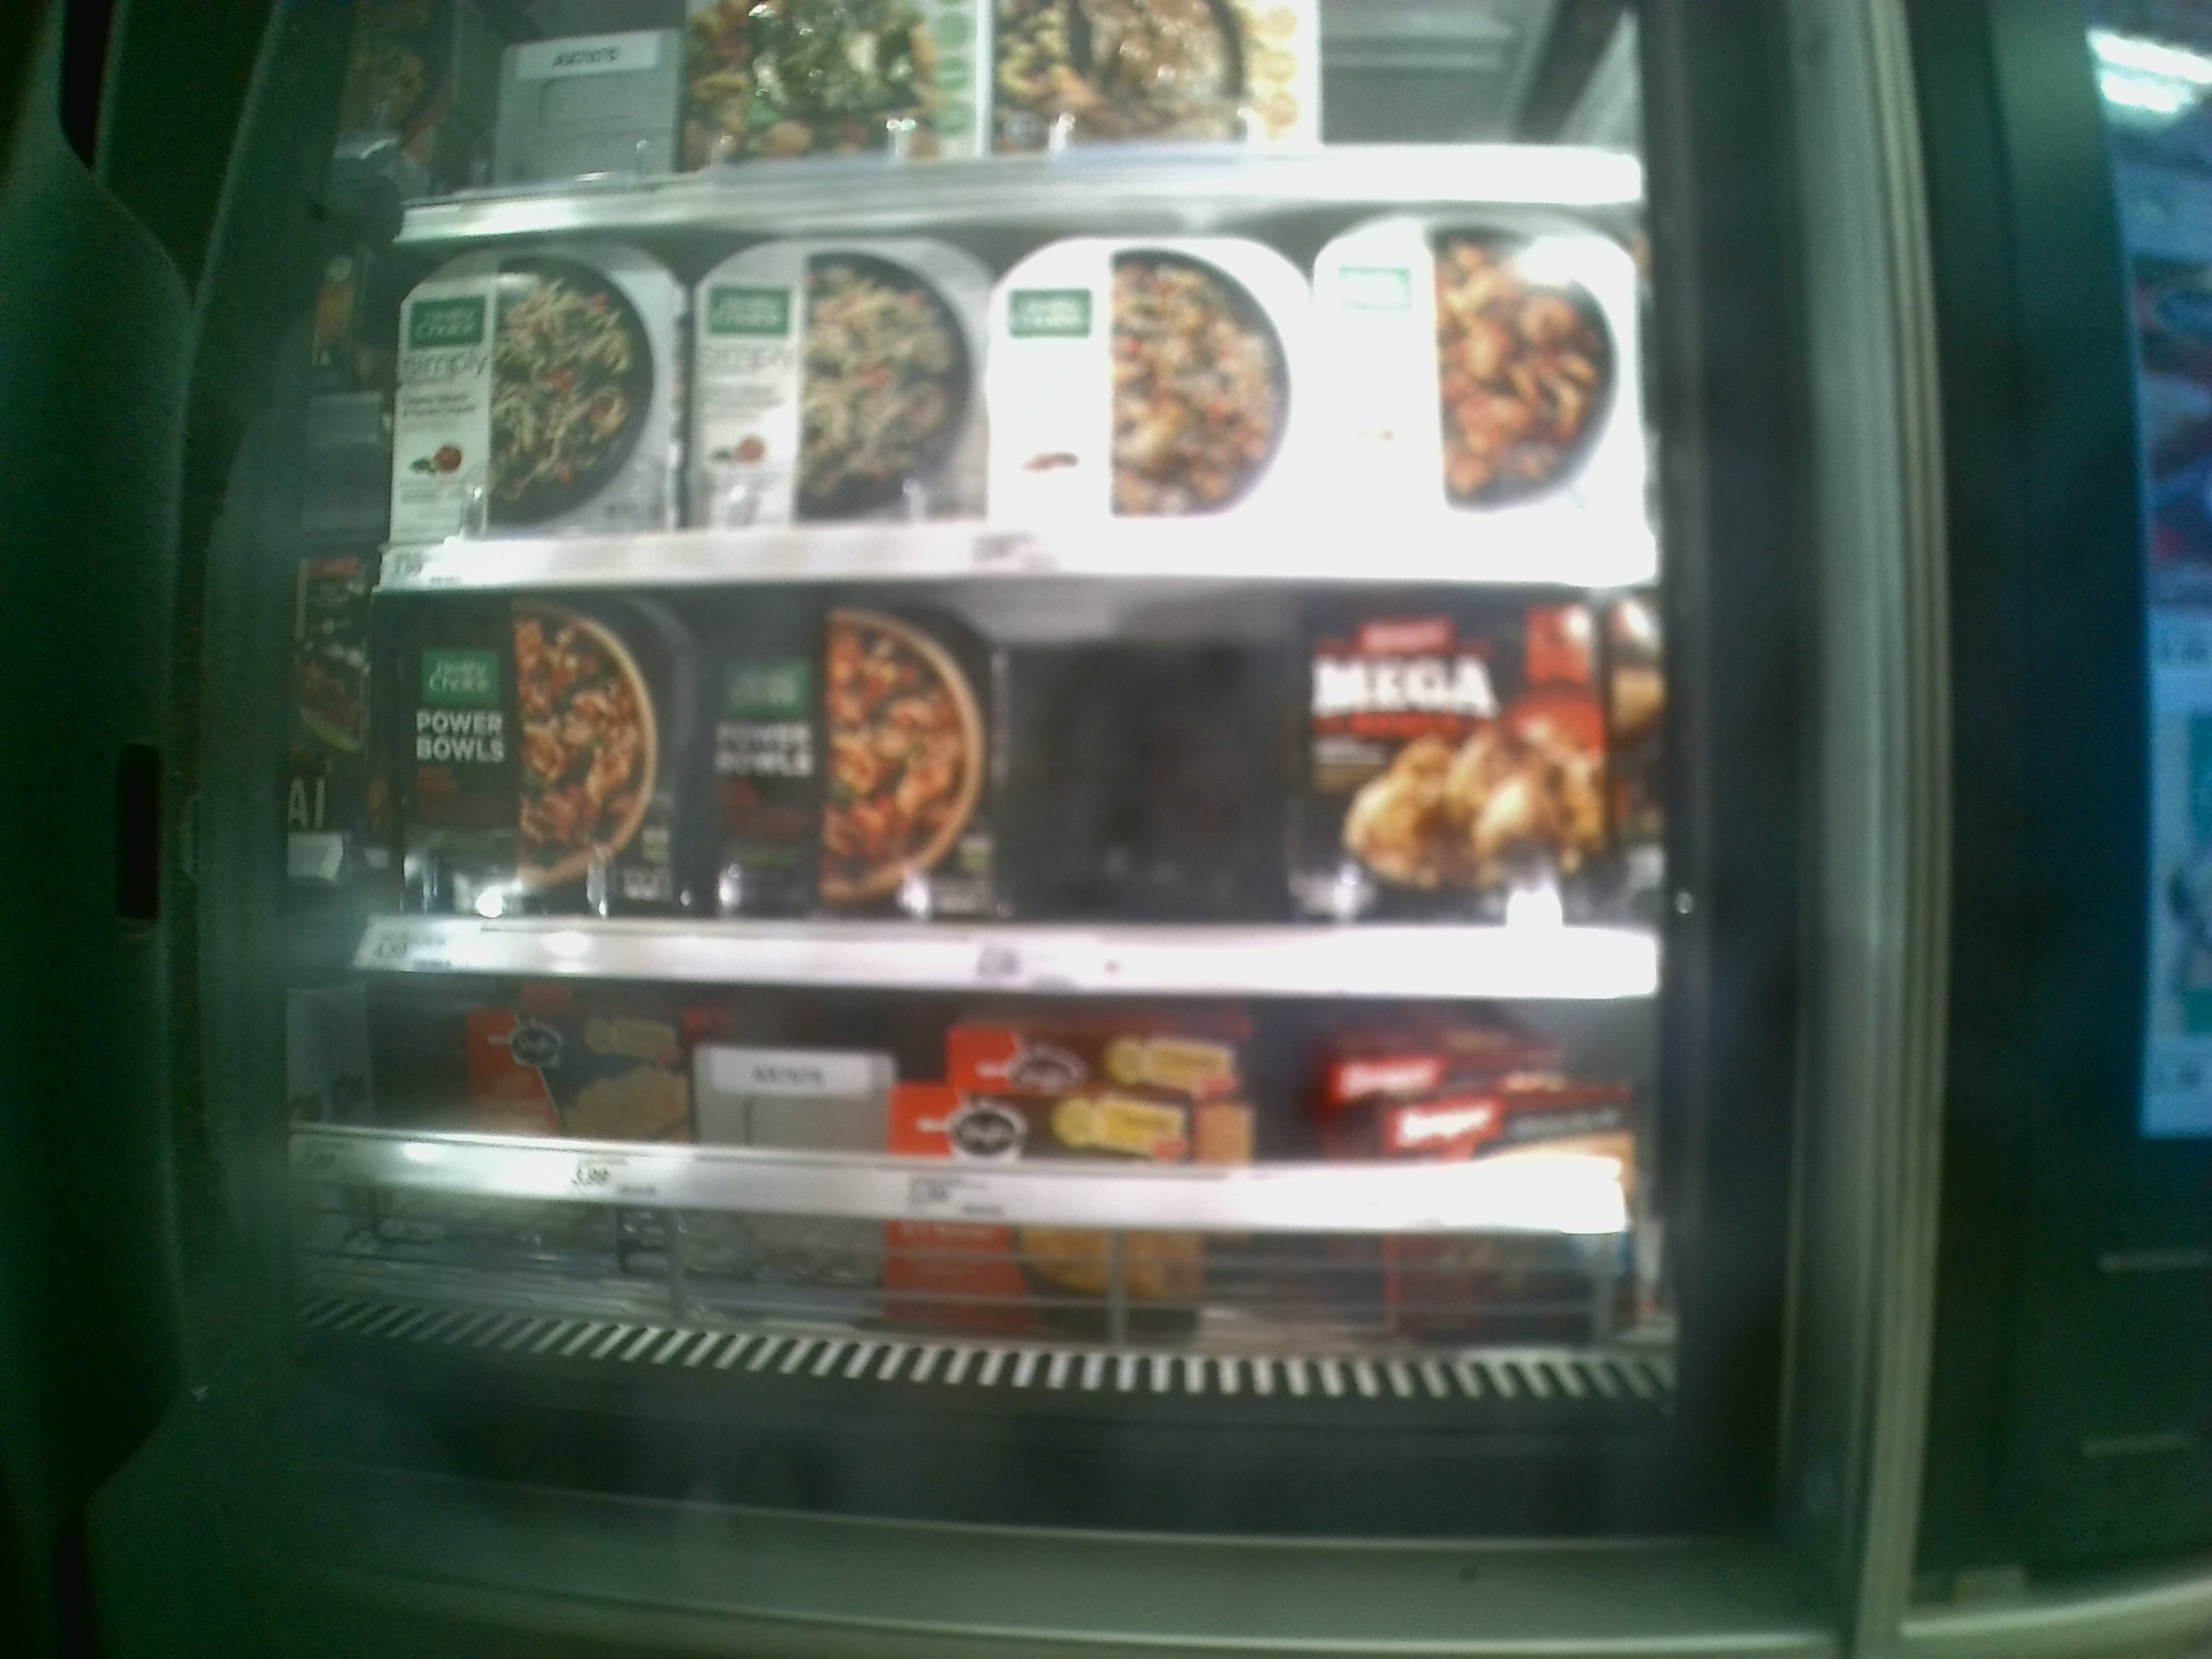shelf: (381, 582, 1669, 993), (392, 199, 1651, 586), (343, 974, 1658, 1344)
